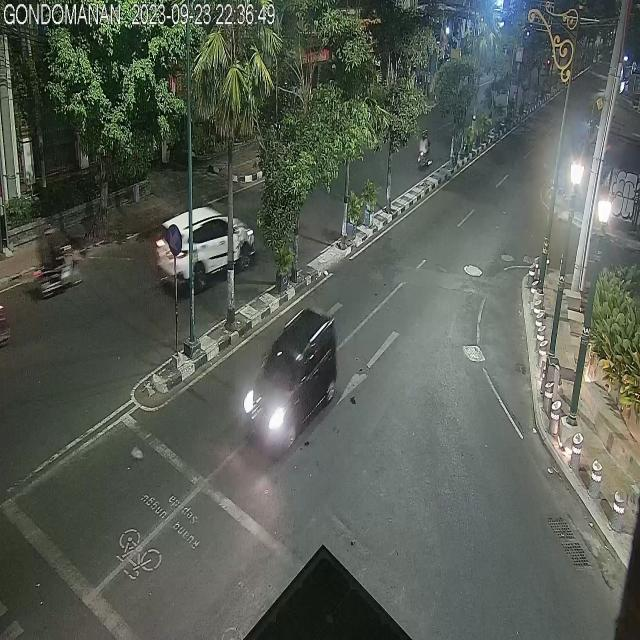car: (240, 312, 340, 459), (154, 204, 256, 292)
motorcycle: (29, 227, 81, 304), (418, 129, 431, 163), (429, 268, 430, 270)
